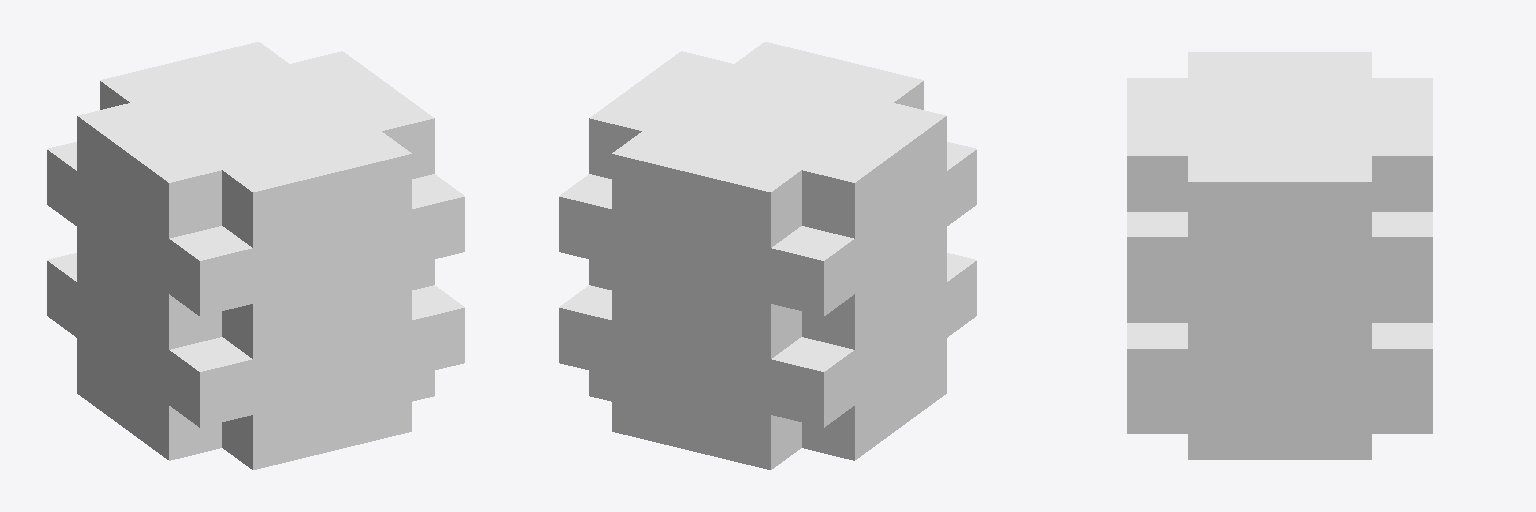
The model's file is Hamburger.obj.
3 renders of one model, left to right at view 1: azimuth 30°, elevation 25°; view 2: azimuth 150°, elevation 25°; view 3: azimuth 270°, elevation 25°, orthographic.
Visible parts, largest first — view 1: Hamburger; view 2: Hamburger; view 3: Hamburger.
Boxes of the visible parts, x1=… form: Hamburger: x1=47, y1=42, x2=464, y2=469; Hamburger: x1=559, y1=42, x2=976, y2=469; Hamburger: x1=1127, y1=52, x2=1432, y2=459.
Bounding box in the file's own units: 5 × 5 × 5.